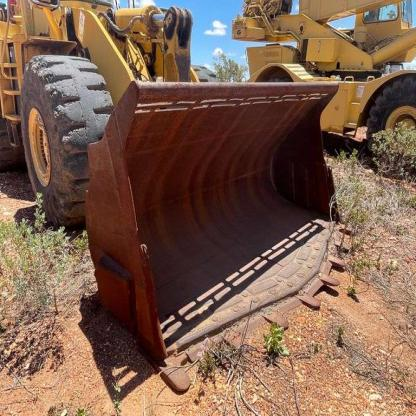bull_dozer/loader/grader: (4, 3, 366, 395)
